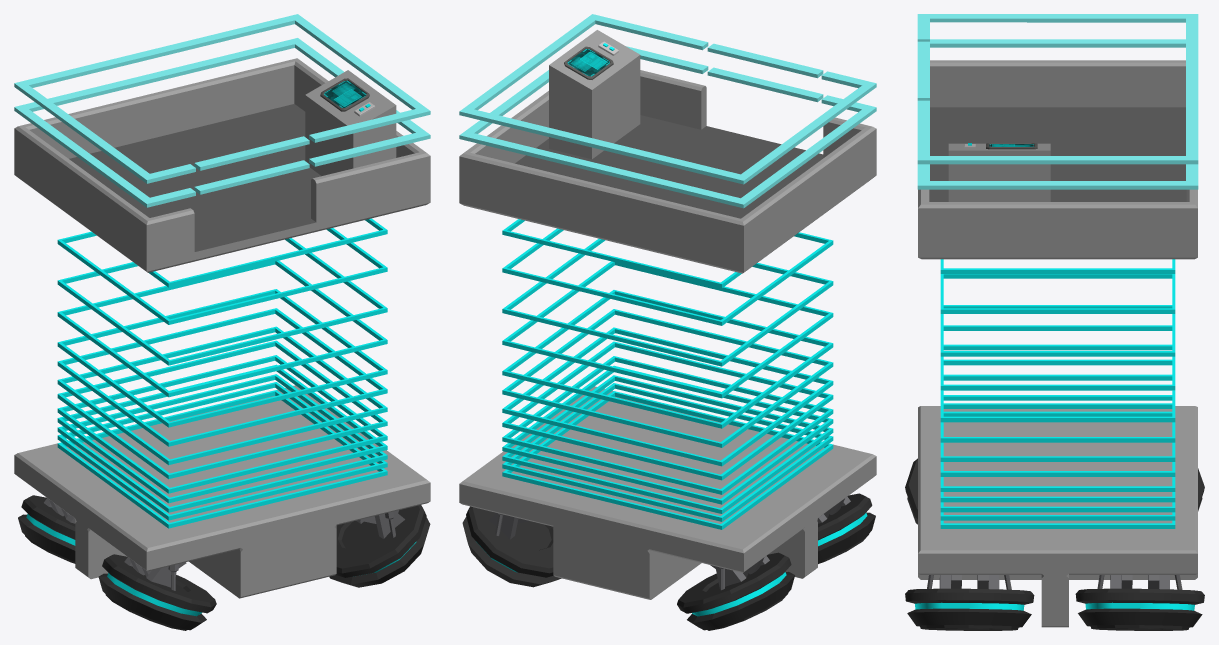
Rendered from Hangar_Lift_01.fbx.
The picture shows the model from 3 angles, left to right: view 1: azimuth 30°, elevation 25°; view 2: azimuth 150°, elevation 25°; view 3: azimuth 270°, elevation 25°; orthographic projection. The views are drawn at different scales.
Visible parts, largest first — view 1: Lift_01; view 2: Lift_01; view 3: Lift_01.
Boxes of the visible parts, x1,y1,x2,y2 form: Lift_01: (14,14,430,630); Lift_01: (459,14,876,630); Lift_01: (905,14,1204,630).
Size of the model in its own units: 314 by 453 by 245.
